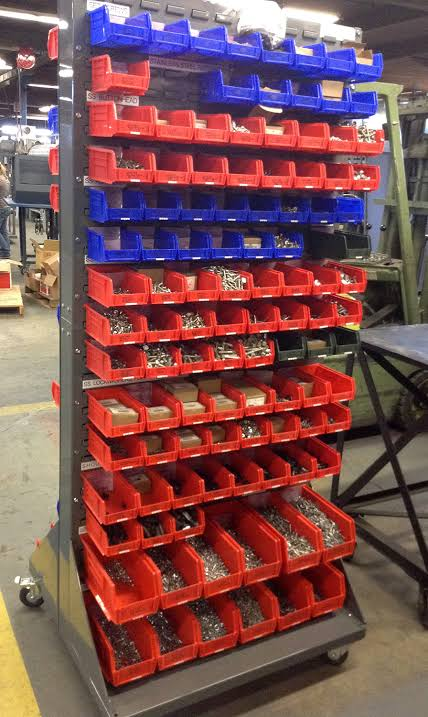Carts: (12, 1, 369, 717)
